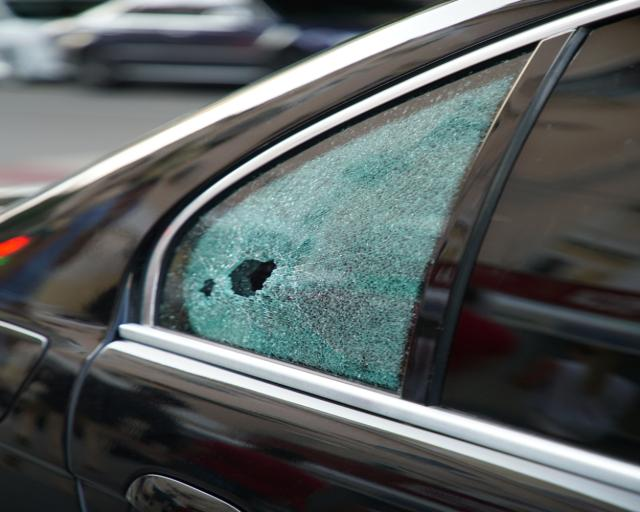glass shatter: (155, 46, 537, 394)
